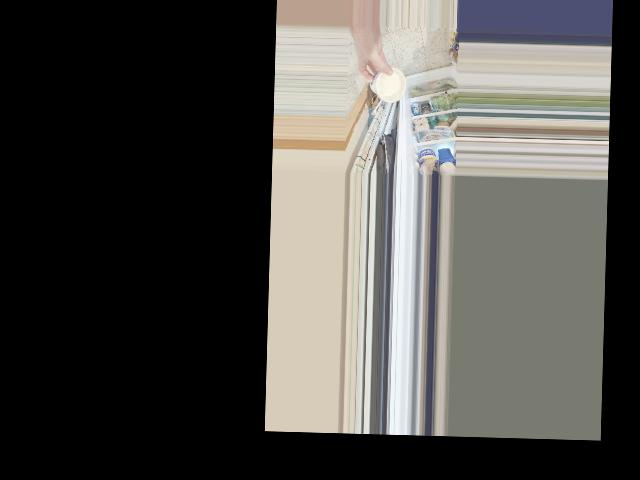cotage: (365, 68, 403, 103)
